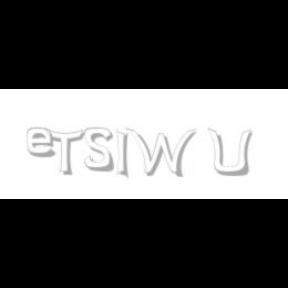I: (116, 128, 130, 180)
S: (84, 128, 115, 172)
T: (44, 128, 84, 176)
U: (206, 128, 252, 178)
W: (125, 128, 197, 178)
e: (26, 128, 60, 158)
